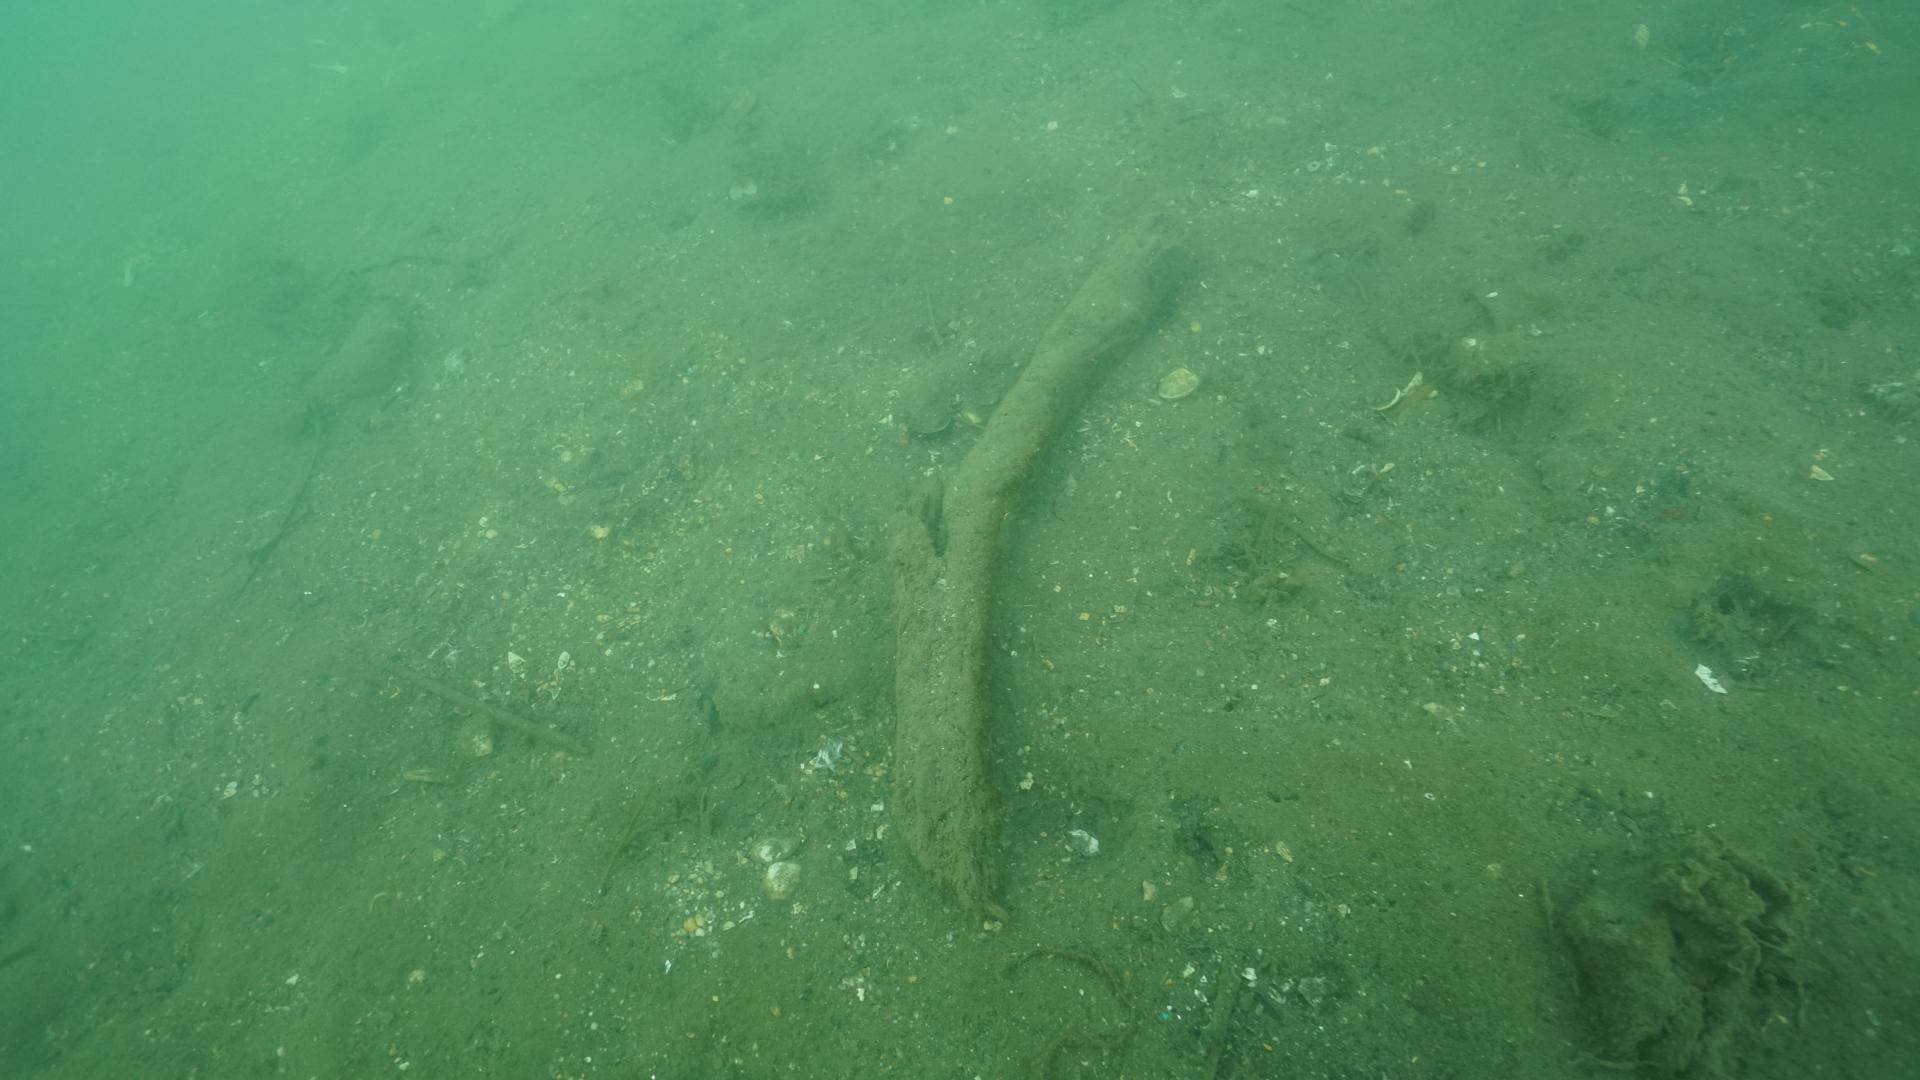wood: (885, 212, 1197, 920)
